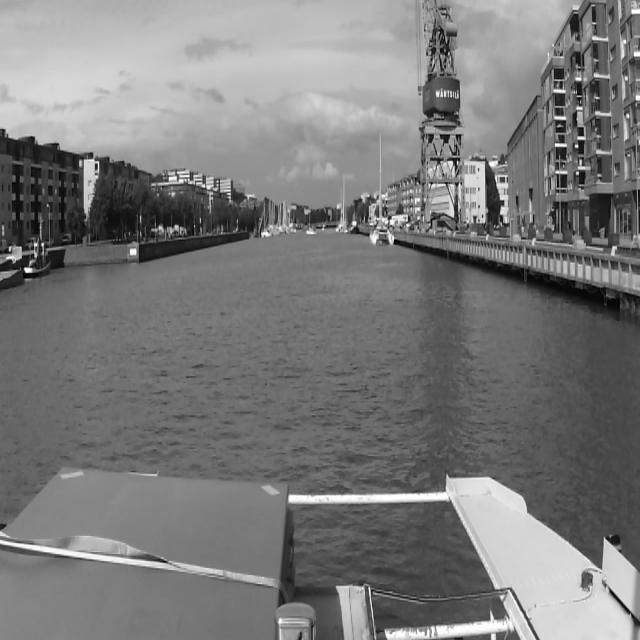ship: (367, 133, 395, 245), (24, 236, 52, 279), (336, 178, 348, 234), (276, 199, 289, 237), (261, 199, 272, 238), (268, 198, 278, 238), (305, 204, 315, 234), (350, 220, 360, 234), (302, 223, 316, 231)
